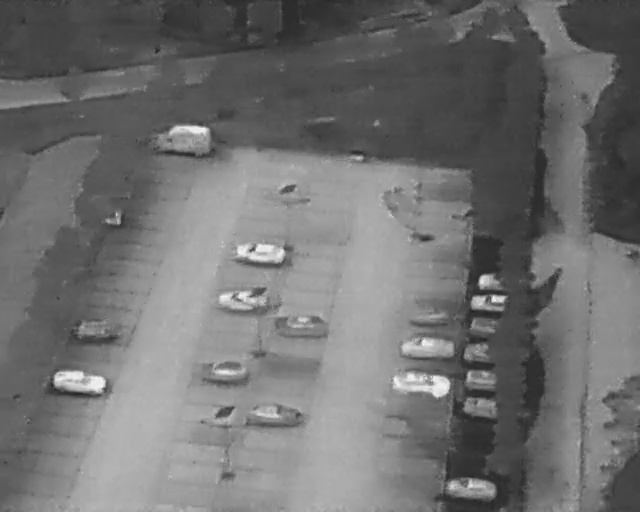Car: (152, 126, 212, 157), (390, 369, 451, 399), (52, 366, 107, 394), (400, 334, 455, 359), (442, 475, 497, 500), (234, 240, 288, 265), (274, 315, 325, 337), (251, 404, 301, 426), (216, 291, 268, 311), (200, 362, 247, 382), (462, 395, 499, 420), (469, 292, 509, 314), (464, 368, 498, 391), (463, 340, 497, 363), (468, 316, 502, 339), (477, 273, 510, 293), (410, 310, 449, 326)
